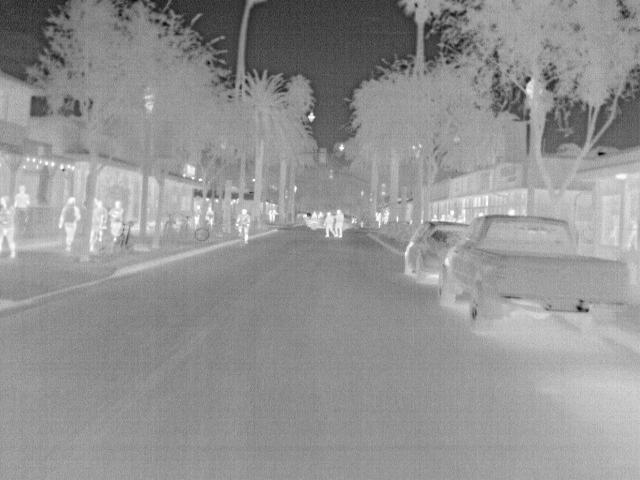car: (440, 213, 630, 343), (402, 219, 472, 282), (306, 212, 326, 229)
person: (0, 193, 22, 260), (59, 194, 81, 249), (90, 197, 106, 247), (109, 196, 124, 242), (236, 207, 252, 245), (14, 182, 33, 208), (333, 208, 346, 240), (323, 210, 335, 238), (380, 208, 392, 225), (445, 208, 458, 221)
